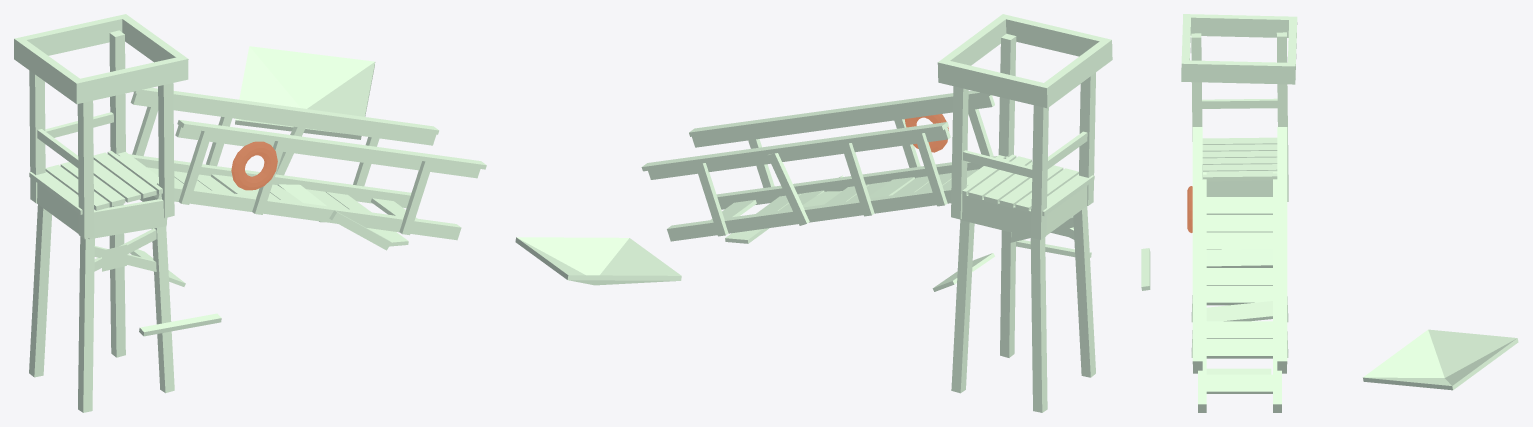
File: lifeguard tower.fbx
3 views of the same model, side by side, from view 1: azimuth 30°, elevation 25°; view 2: azimuth 150°, elevation 25°; view 3: azimuth 270°, elevation 25° (orthographic). The views are drawn at different scales.
Visible parts, largest first — view 1: roof border.001, roof.001, Cube.081, Cube.088, Cube.090, Cube.091, Cube.070, Cube.095, Cube.072, Cube.087, Cube.094, Cube.069 (+20 smaller); view 2: roof border.001, roof.001, Cube.087, Cube.081, Cube.091, Cube.090, Cube.072, Cube.088, Cube.094, Cube.071, Cube.070, Cube.095 (+13 smaller); view 3: roof.001, roof border.001, Cube.081, Cube.094, Cube.095, Cube.088, Cube.087, ramp path.009, ramp path.011, ramp path.006, ramp path.004, ramp path.002 (+11 smaller).
Part boxes in pixels (<box>): roof border.001: <box>14,14,188,104</box>; roof.001: <box>235,46,375,139</box>; Cube.081: <box>29,151,162,214</box>; Cube.088: <box>154,183,461,240</box>; Cube.090: <box>130,92,436,145</box>; Cube.091: <box>175,125,480,178</box>; Cube.070: <box>78,236,94,412</box>; Cube.095: <box>177,120,486,169</box>; Cube.072: <box>29,204,51,377</box>; Cube.087: <box>117,153,411,208</box>; Cube.094: <box>133,87,439,134</box>; Cube.069: <box>152,226,174,393</box>; roof border.001: <box>937,14,1112,108</box>; roof.001: <box>515,237,681,285</box>; Cube.087: <box>667,185,968,241</box>; Cube.081: <box>962,154,1094,216</box>; Cube.091: <box>692,95,994,147</box>; Cube.090: <box>648,127,950,179</box>; Cube.072: <box>1030,237,1047,412</box>; Cube.088: <box>716,156,1008,209</box>; Cube.094: <box>641,122,948,171</box>; Cube.071: <box>951,220,974,393</box>; Cube.070: <box>1073,206,1095,377</box>; Cube.095: <box>689,90,990,136</box>; roof.001: <box>1363,329,1518,390</box>; roof border.001: <box>1181,14,1297,84</box>; Cube.081: <box>1202,137,1277,181</box>; Cube.094: <box>1277,127,1287,364</box>; Cube.095: <box>1192,127,1202,364</box>; Cube.088: <box>1198,172,1206,412</box>; Cube.087: <box>1273,172,1281,412</box>; ramp path.009: <box>1206,339,1272,358</box>; ramp path.011: <box>1206,374,1272,393</box>; ramp path.006: <box>1206,285,1272,305</box>; ramp path.004: <box>1206,248,1272,267</box>; ramp path.002: <box>1206,214,1272,232</box>.
Size of the model in its own units: 2638 by 1884 by 2148.
